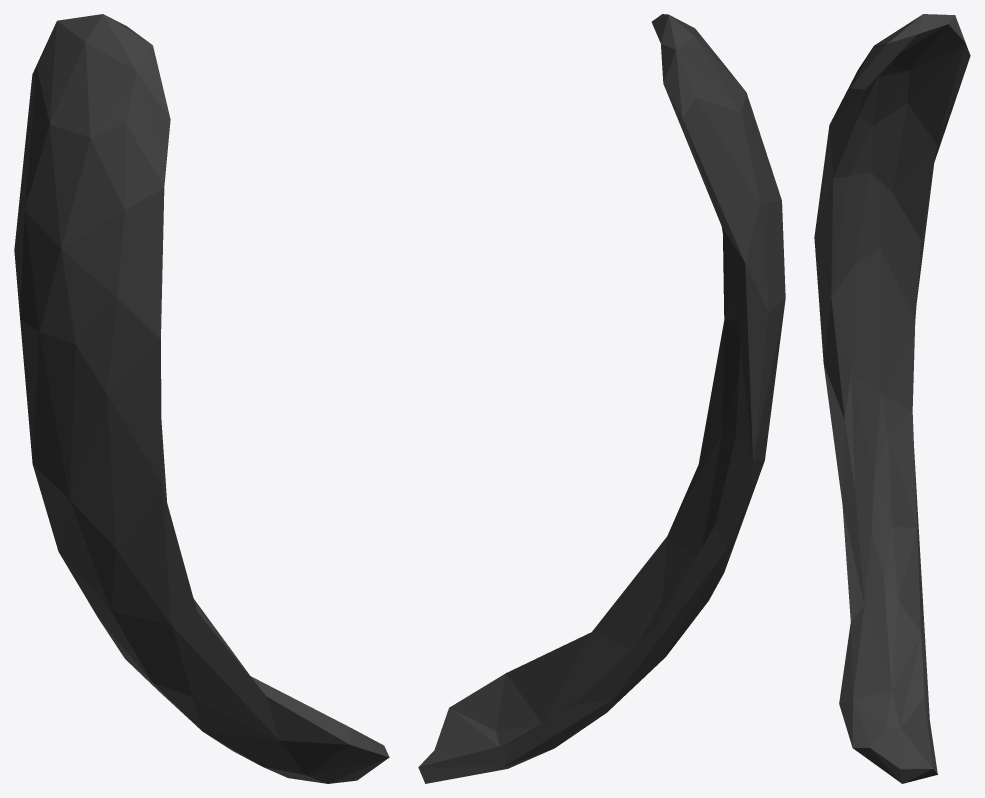
File: Femur_trochlea_lateral_ridge.glb
The picture shows the model from 3 angles, left to right: view 1: azimuth 30°, elevation 25°; view 2: azimuth 150°, elevation 25°; view 3: azimuth 270°, elevation 25°; orthographic projection. The views are drawn at different scales.
Parts seen in each view (by area): view 1: Femur_trochlea_lateral_ridge; view 2: Femur_trochlea_lateral_ridge; view 3: Femur_trochlea_lateral_ridge.
Boxes of the visible parts, x1,y1,x2,y2 form: Femur_trochlea_lateral_ridge: [14, 14, 389, 783]; Femur_trochlea_lateral_ridge: [418, 14, 785, 783]; Femur_trochlea_lateral_ridge: [814, 14, 970, 783].
Bounding box in the file's own units: 0.0205 × 0.0471 × 0.00992.
1 material, 1 textured.
